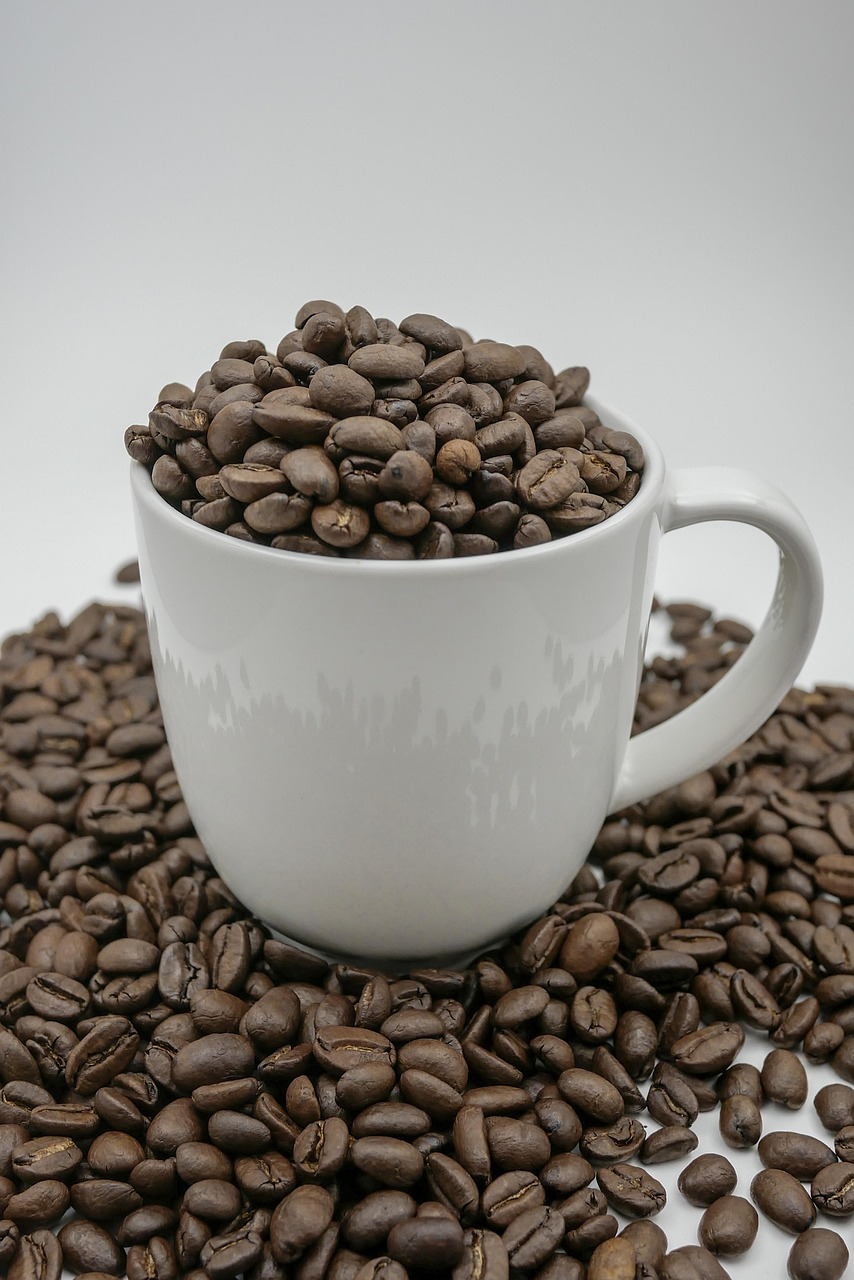mug: (76, 338, 835, 974)
